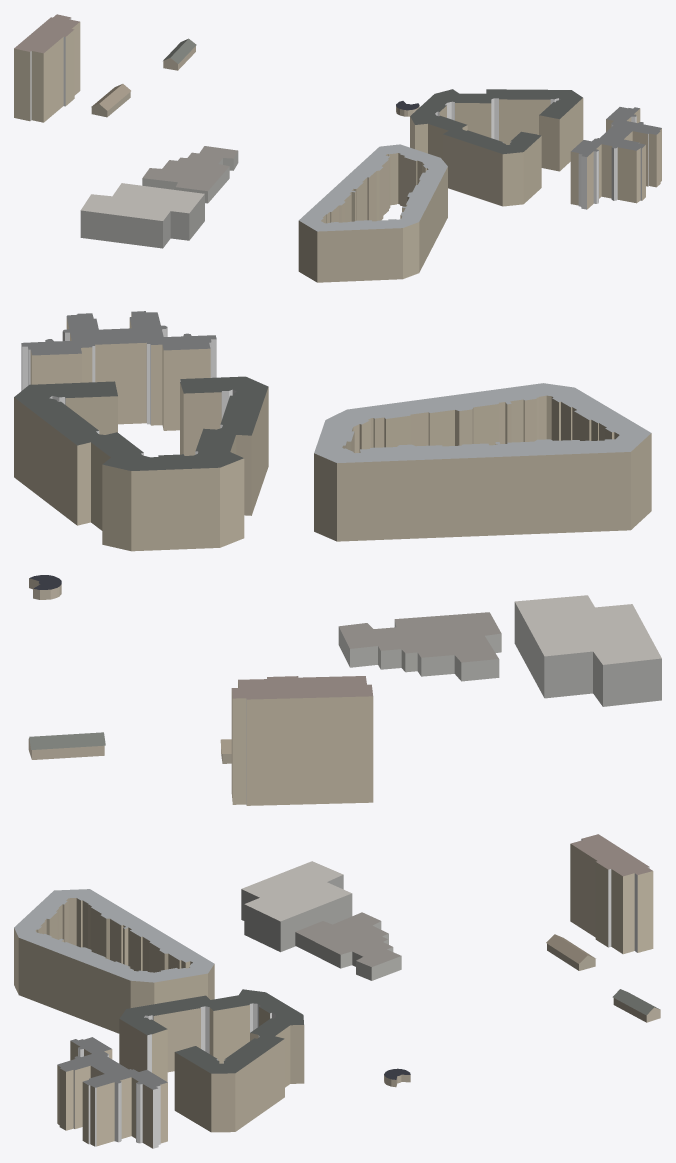
The picture shows the model from 3 angles, top to bottom: view 1: azimuth 30°, elevation 25°; view 2: azimuth 150°, elevation 25°; view 3: azimuth 270°, elevation 25°; orthographic projection. The views are drawn at different scales.
Visible parts, largest first — view 1: tuile; view 2: tuile; view 3: tuile.
Part boxes in pixels (x1,y1,x2,y2): tuile: (14, 14, 661, 282); tuile: (14, 311, 661, 805); tuile: (14, 834, 660, 1148).
Bounding box in the file's own units: 262 × 41.65 × 268.
